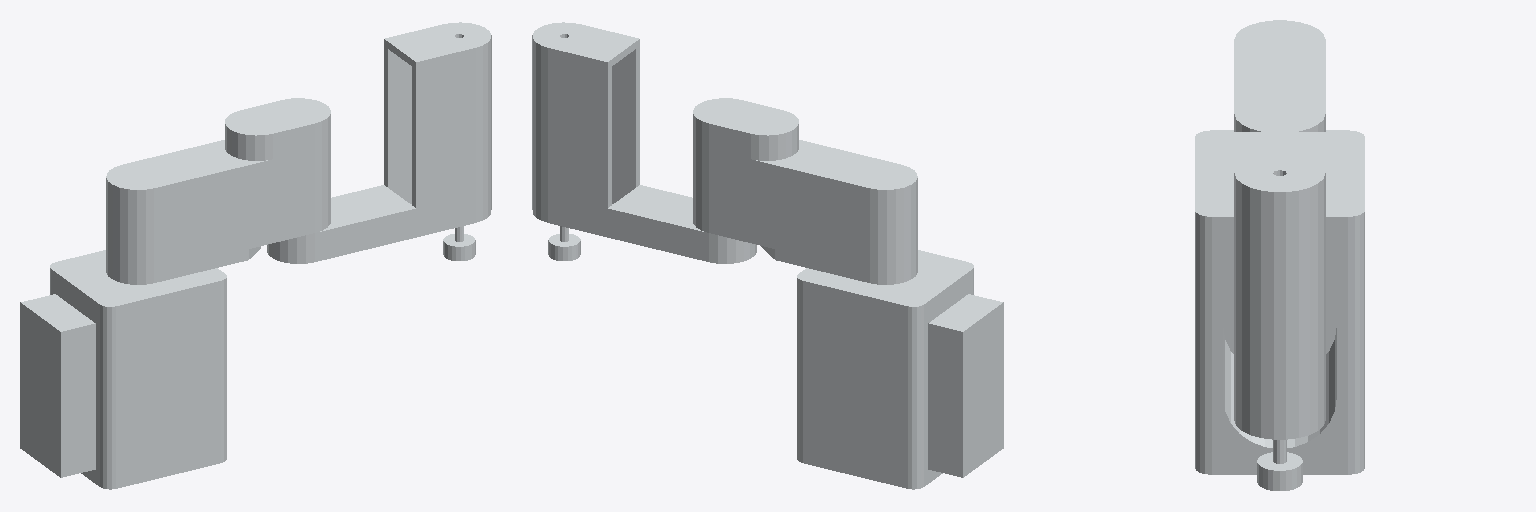
The robot description file, URDF, robot "scara_sam":
<?xml version="1.0" encoding="utf-8"?>
<!-- This URDF was automatically created by SolidWorks to URDF Exporter! Originally created by [author] ([email redacted]) 
     Commit Version: 1.6.0-1-g15f4949  Build Version: 1.6.7594.29634
     For more information, please see http://wiki.ros.org/sw_urdf_exporter -->
<robot
  name="scara_sam">
  <link
    name="base_link">
    <visual>
	    <geometry>
		    <box size="0.001 0.001 0.001"/>
	    </geometry>
    </visual>
  </link>

  <link
    name="link_0">
    <inertial>
      <origin
        xyz="-0.031213 8.5802E-08 0.12282"
        rpy="0 0 0" />
      <mass
        value="13.423" />
      <inertia
        ixx="0.11178"
        ixy="-2.1827E-09"
        ixz="-0.00063942"
        iyy="0.13763"
        iyz="-7.0531E-09"
        izz="0.086579" />
    </inertial>
    <visual>
      <origin
        xyz="0 0 0"
        rpy="0 0 0" />
      <geometry>
        <mesh
          filename="package://scara_sam/meshes/link_0.STL" />
      </geometry>
      <material
        name="">
        <color
          rgba="0.89804 0.91765 0.92941 1" />
      </material>
    </visual>
    <collision>
      <origin
        xyz="0 0 0"
        rpy="0 0 0" />
      <geometry>
        <mesh
          filename="package://scara_sam/meshes/link_0.STL" />
      </geometry>
    </collision>
  </link>
  
  <joint
    name="dummy_joint"
    type="fixed">
    <origin
      xyz="0 0 0"
      rpy="0 0 0" />
    <parent
      link="base_link" />
    <child
      link="link_0" />
  </joint>

  <link
    name="link_1">
    <inertial>
      <origin
        xyz="-0.11518 -1.8638E-06 0.1236"
        rpy="0 0 0" />
      <mass
        value="8.9496" />
      <inertia
        ixx="0.022653"
        ixy="-8.8509E-07"
        ixz="0.011632"
        iyy="0.084027"
        iyz="-1.1025E-06"
        izz="0.070217" />
    </inertial>
    <visual>
      <origin
        xyz="0 0 0"
        rpy="0 0 0" />
      <geometry>
        <mesh
          filename="package://scara_sam/meshes/link_1.STL" />
      </geometry>
      <material
        name="">
        <color
          rgba="0.89804 0.91765 0.92941 1" />
      </material>
    </visual>
    <collision>
      <origin
        xyz="0 0 0"
        rpy="0 0 0" />
      <geometry>
        <mesh
          filename="package://scara_sam/meshes/link_1.STL" />
      </geometry>
    </collision>
  </link>

  <joint
    name="joint_1"
    type="revolute">
    <origin
      xyz="0 0 0.2"
      rpy="0 0 3.1416" />
    <parent
      link="link_0" />
    <child
      link="link_1" />
    <axis
      xyz="0 0 1" />
    <limit
      lower="-2.1817"
      upper="2.1817"
      effort="50"
      velocity="60" />
    <dynamics
      friction="4" />
  </joint>

  <link
    name="link_2">
    <inertial>
      <origin
        xyz="0.16745911710476 -2.76162417424873E-17 0.0918796797294344"
        rpy="0 0 0" />
      <mass
        value="3.59927669194501" />
      <inertia
        ixx="0.0248444984772697"
        ixy="3.77403760282018E-19"
        ixz="-0.0116358583582353"
        iyy="0.0475946509596512"
        iyz="1.36696266045529E-18"
        izz="0.0278763601445839" />
    </inertial>
    <visual>
      <origin
        xyz="0 0 0"
        rpy="0 0 0" />
      <geometry>
        <mesh
          filename="package://scara_sam/meshes/link_2.STL" />
      </geometry>
      <material
        name="">
        <color
          rgba="0.898039215686275 0.917647058823529 0.929411764705882 1" />
      </material>
    </visual>
    <collision>
      <origin
        xyz="0 0 0"
        rpy="0 0 0" />
      <geometry>
        <mesh
          filename="package://scara_sam/meshes/link_2.STL" />
      </geometry>
    </collision>
  </link>
  
  <joint
    name="joint_2"
    type="revolute">
    <origin
      xyz="-0.23 0 0.025"
      rpy="0 0 3.1416" />
    <parent
      link="link_1" />
    <child
      link="link_2" />
    <axis
      xyz="0 0 1" />
    <limit
      lower="-2.1817"
      upper="2.1817"
      effort="45"
      velocity="60" />
    <dynamics
      friction="4" />
  </joint>
  <link
    name="link_3">
    <inertial>
      <origin
        xyz="0 -2.13445690039565E-17 -0.0150798872568919"
        rpy="0 0 0" />
      <mass
        value="0.113662822206879" />
      <inertia
        ixx="0.00029291760888769"
        ixy="9.43978515045515E-22"
        ixz="1.12516646700694E-20"
        iyy="0.00029291760888769"
        iyz="9.79685357039085E-21"
        izz="1.4396159839516E-05" />
    </inertial>
    <visual>
      <origin
        xyz="0 0 0"
        rpy="0 0 0" />
      <geometry>
        <mesh
          filename="package://scara_sam/meshes/link_3.STL" />
      </geometry>
      <material
        name="">
        <color
          rgba="0.898039215686275 0.917647058823529 0.929411764705882 1" />
      </material>
    </visual>
    <collision>
      <origin
        xyz="0 0 0"
        rpy="0 0 0" />
      <geometry>
        <mesh
          filename="package://scara_sam/meshes/link_3.STL" />
      </geometry>
    </collision>
  </link>
  <joint
    name="joint_3"
    type="prismatic">
    <origin
      xyz="0.23 0 0"
      rpy="0 0 0" />
    <parent
      link="link_2" />
    <child
      link="link_3" />
    <axis
      xyz="0 0 1" />
    <limit
      lower="-0.025"
      upper="0.025"
      effort="1"
      velocity="0.1" />
  </joint>
</robot>

--- What the picture shows (computed from the rendered views, not written in the file) ---
The picture shows the robot from 3 angles, left to right: view 1: azimuth 30°, elevation 25°; view 2: azimuth 150°, elevation 25°; view 3: azimuth 270°, elevation 25°; orthographic projection.
Robot: scara_sam — 5 links, 4 joints (2 revolute, 1 prismatic, 1 fixed); root link base_link; default pose: every joint at zero.
Visible links, largest first — view 1: link_0, link_1, link_2, link_3; view 2: link_0, link_1, link_2, link_3; view 3: link_0, link_2, link_1, link_3.
Link boxes in pixels (x1,y1,x2,y2): link_0: (20, 250, 226, 489); link_1: (106, 98, 330, 284); link_2: (267, 22, 491, 263); link_3: (443, 226, 475, 260); link_0: (797, 250, 1003, 489); link_1: (693, 98, 917, 284); link_2: (532, 22, 756, 263); link_3: (548, 226, 580, 260); link_0: (1195, 130, 1364, 474); link_2: (1234, 132, 1325, 439); link_1: (1234, 20, 1325, 131); link_3: (1257, 440, 1302, 490).
Bounding box of the posed robot: 0.6396 × 0.15 × 0.4655 m (x, y, z).
Meshes: 4 distinct files referenced, 4 mesh visuals loaded (4 binary STL).
